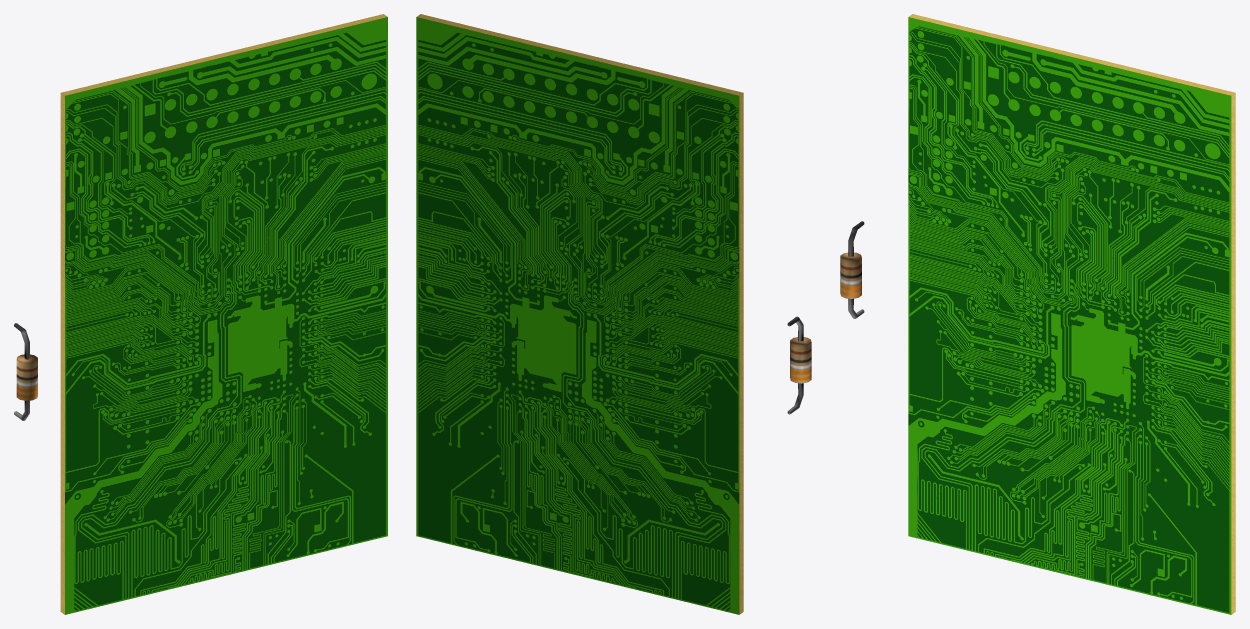
The model's file is textolite_circuit_board.glb.
3 renders of one model, left to right at view 1: azimuth 30°, elevation 25°; view 2: azimuth 150°, elevation 25°; view 3: azimuth 330°, elevation 25°, orthographic.
Visible parts, largest first — view 1: object_NNN5; view 2: object_NNN5; view 3: object_NNN5.
Part boxes in pixels (left/top/right/bottom): object_NNN5: left=14, top=14, right=387, bottom=614; object_NNN5: left=416, top=14, right=811, bottom=614; object_NNN5: left=840, top=14, right=1235, bottom=614.
Bounding box in the file's own units: 0.1693 × 0.2213 × 0.0151.
1 material, 1 textured.
